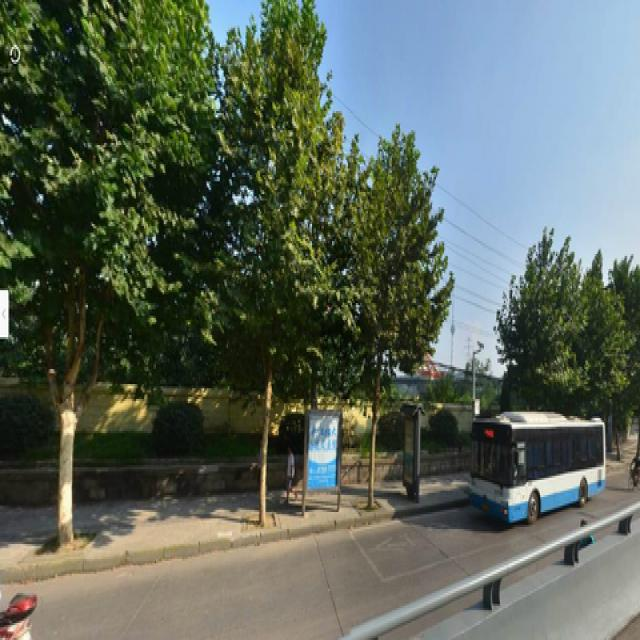meta: (4, 9, 192, 514), (222, 34, 314, 474), (343, 158, 440, 512)
